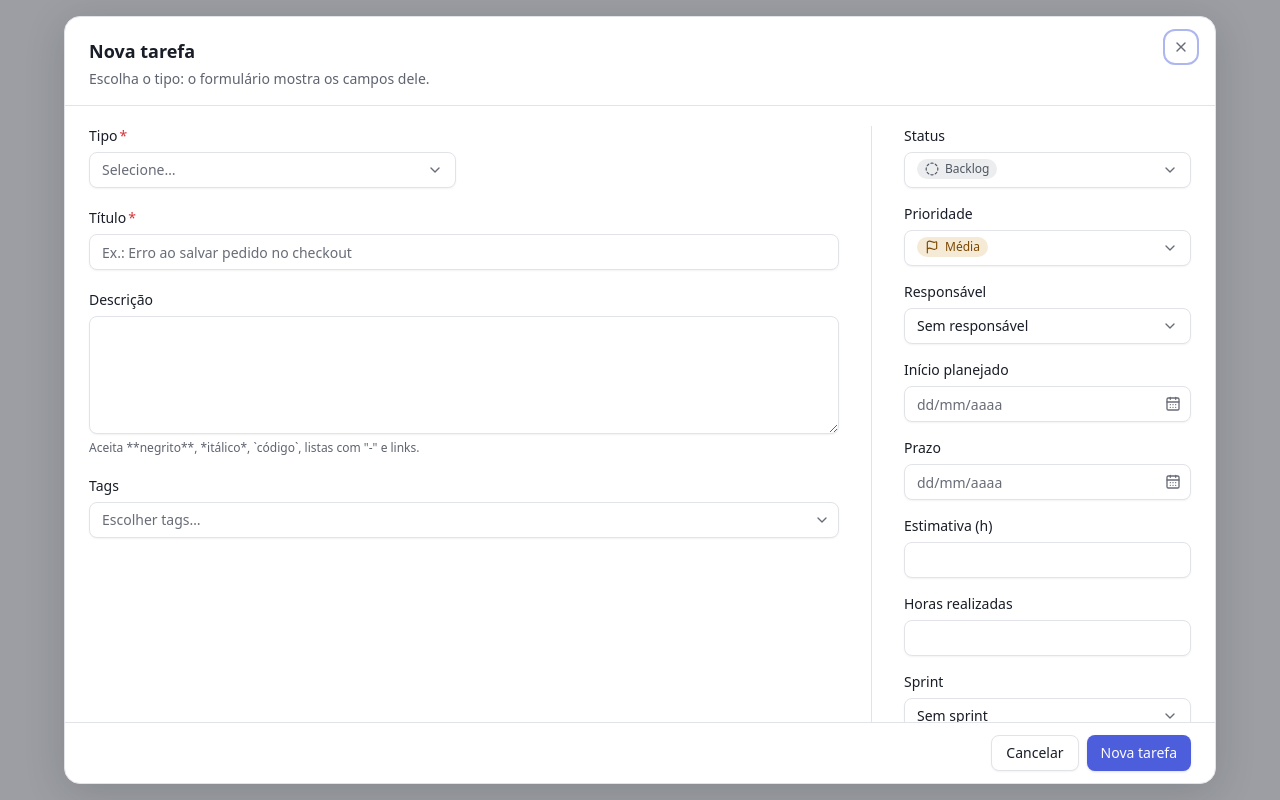
Test: TaskFormDialog › escolher o tipo carrega os campos dele com os valores padrão
The image size is (1280, 800).
Click the dropdown named "Tipo": (139, 170) [89,152,456,188]
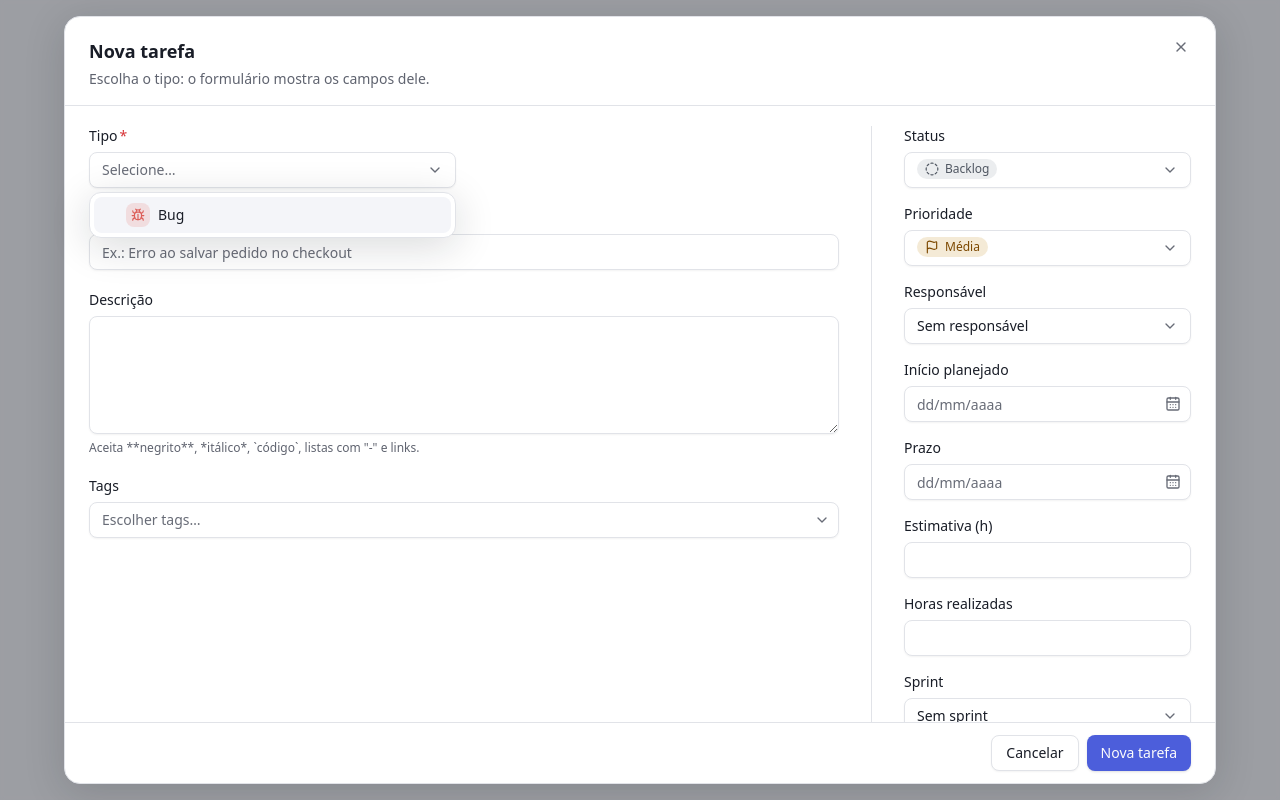
Click the option "Bug": (138, 215) [94,197,451,233]
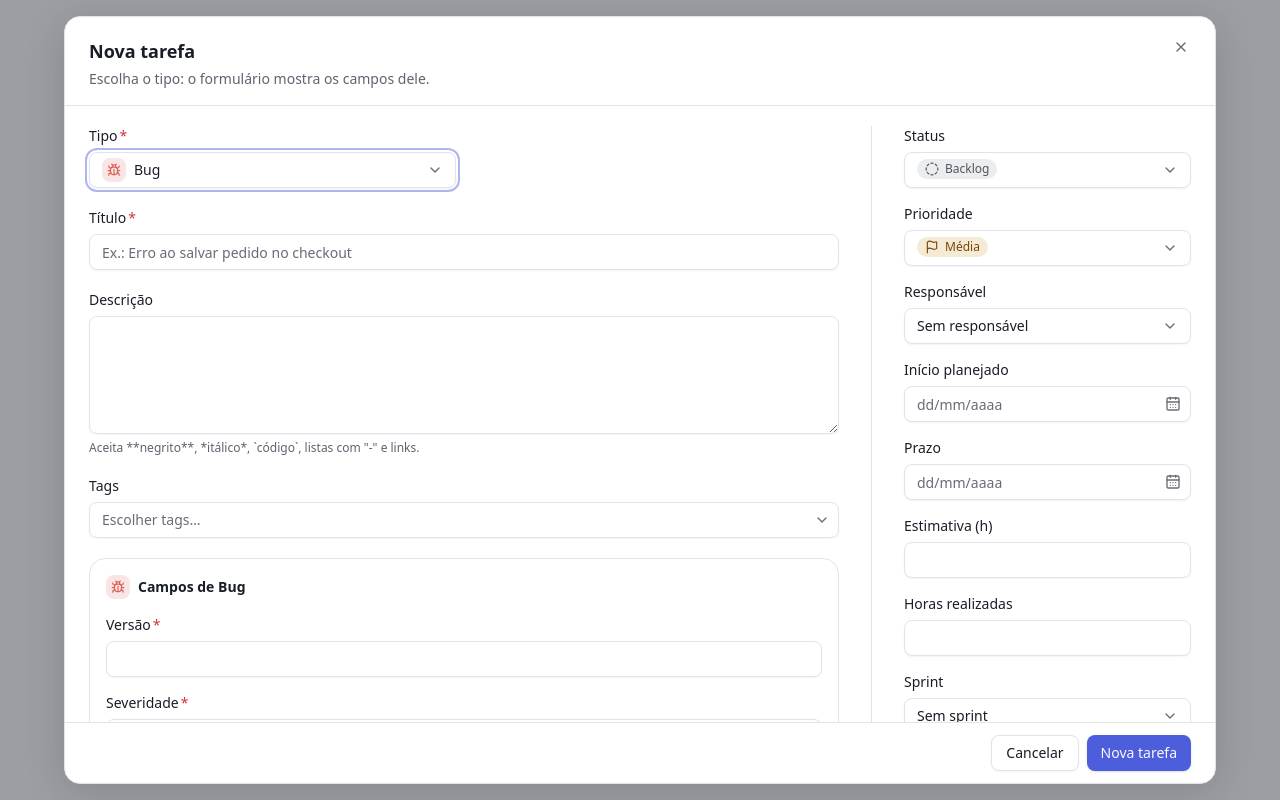
Expected: the field labelled "Versão*" is shown, [106,641,822,677]
